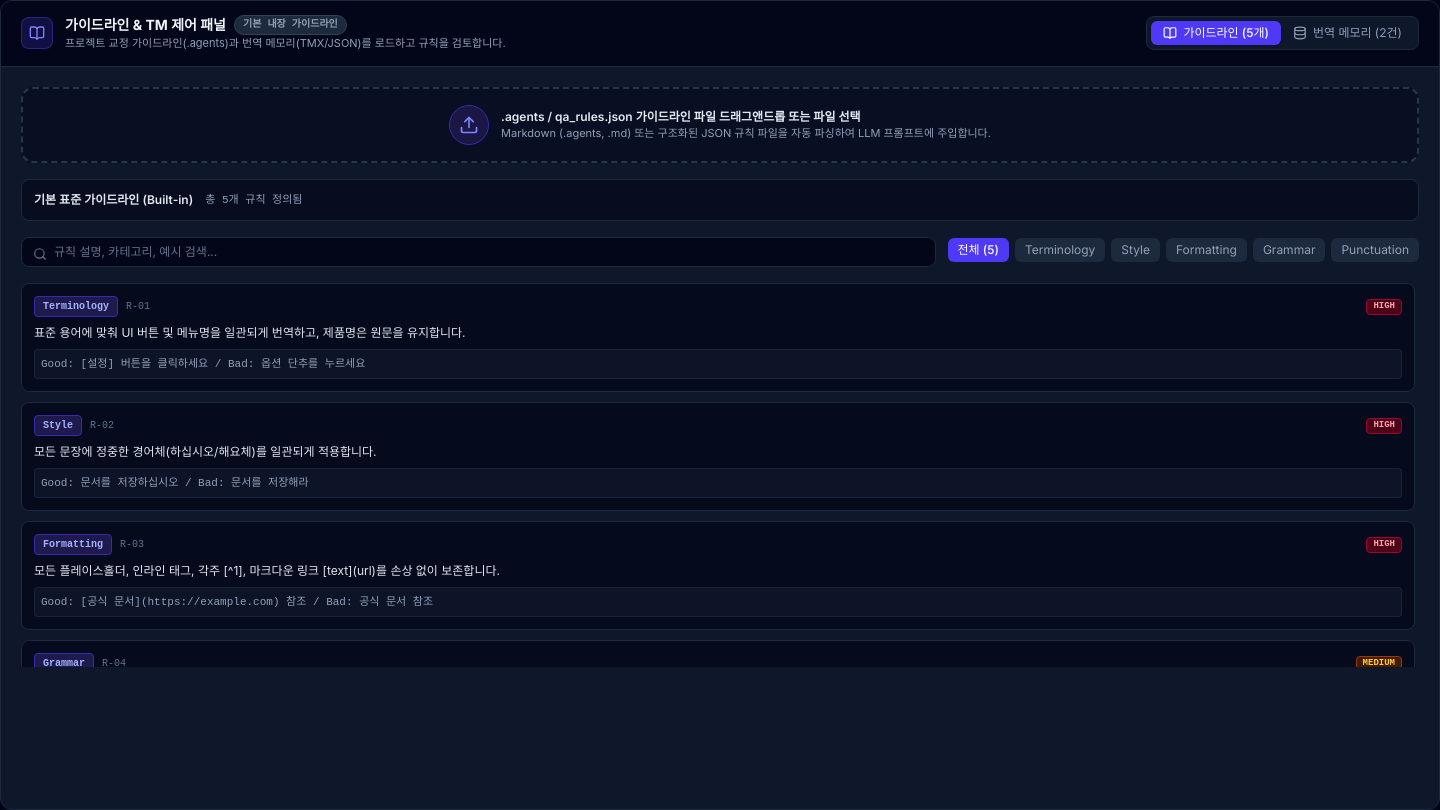
Scenario: GuidelineViewer Component › should switch to TM tab and display TM upload zone and entries
Click the button with test id "tab-tm": x=1347, y=33 [1281,21,1414,45]
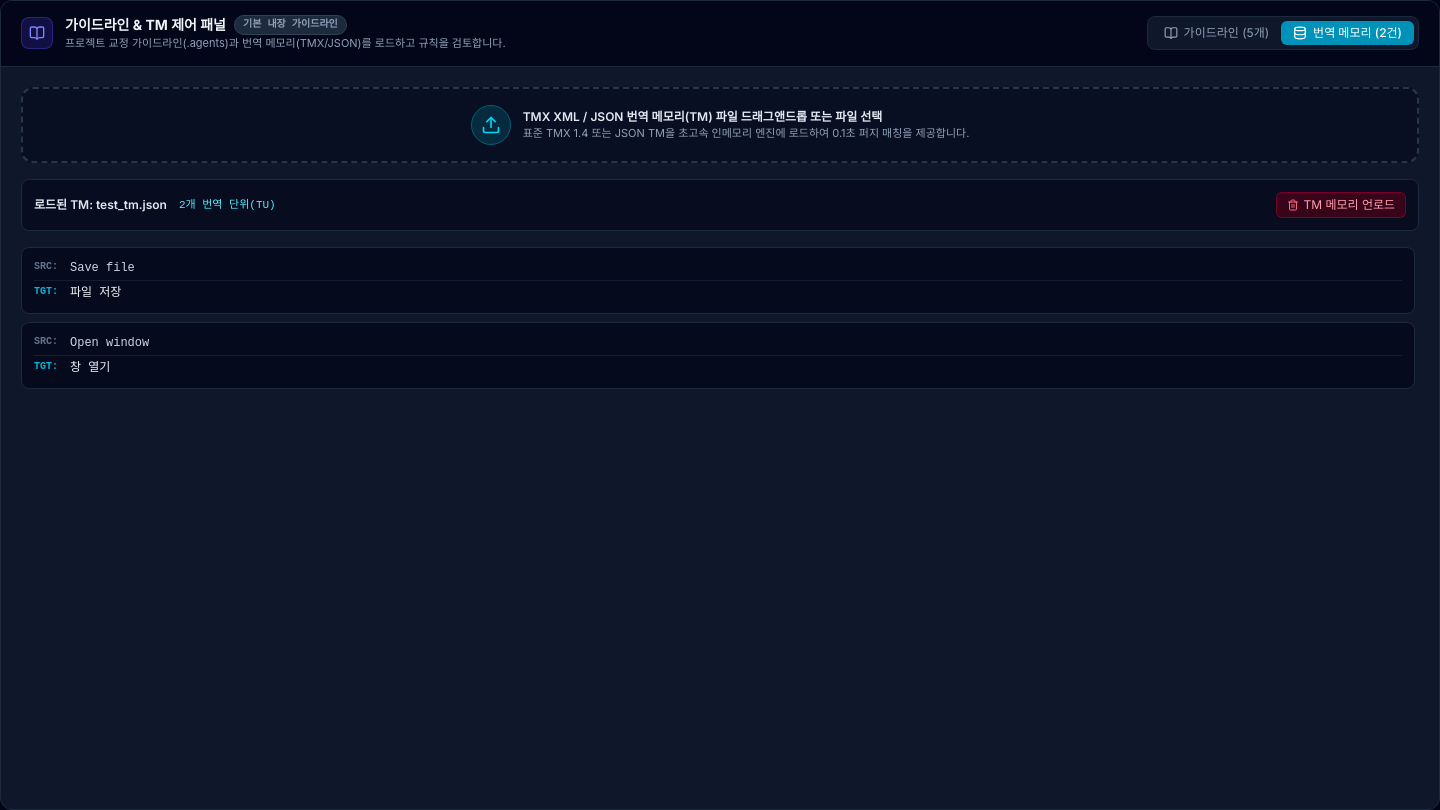
Result: the element with test id "tm-dropzone" is shown at [21,87,1419,163]
Result: the text "로드된 TM: test_tm.json" is shown at [34,197,167,213]
Result: the text "2개 번역 단위(TU)" is shown at [179,196,276,213]
